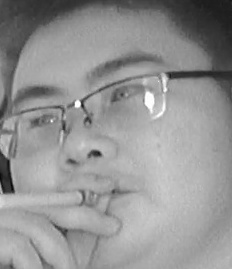eye: (109, 83, 143, 102), (26, 112, 58, 130)
glass: (80, 75, 167, 128), (1, 105, 67, 157)
